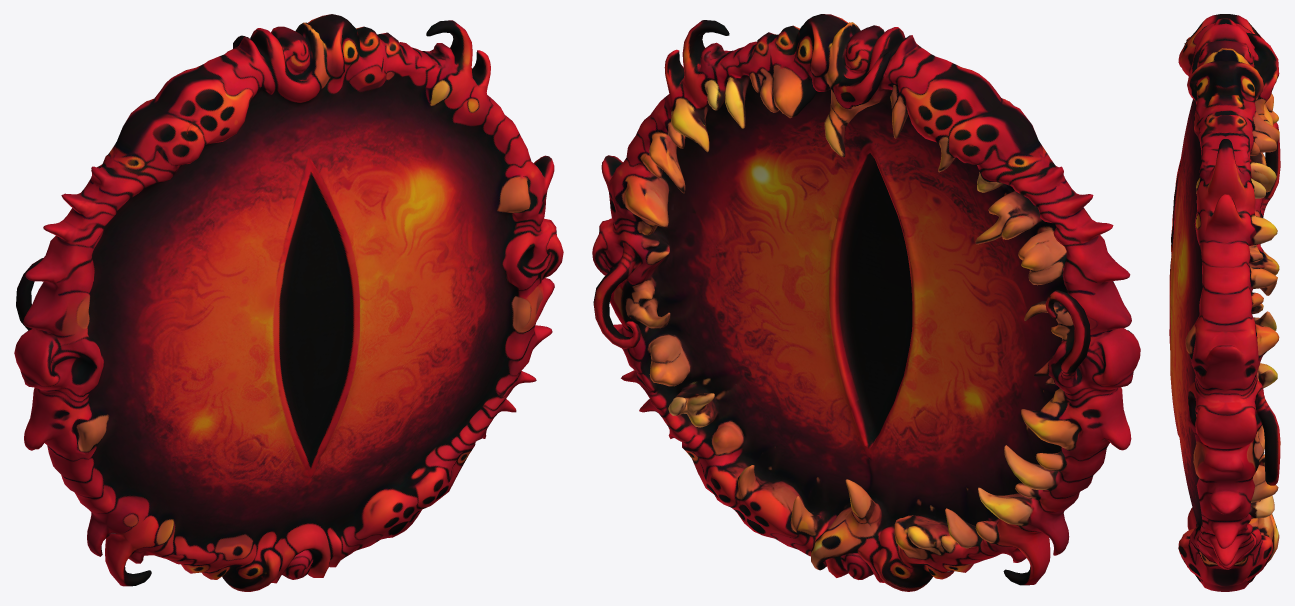
Rendered from olhao.fbx.
3 views of the same model, side by side, from view 1: azimuth 30°, elevation 25°; view 2: azimuth 150°, elevation 25°; view 3: azimuth 270°, elevation 25° (orthographic). The views are drawn at different scales.
Visible parts, largest first — view 1: tripo_node_5ebd79e0; view 2: tripo_node_5ebd79e0; view 3: tripo_node_5ebd79e0.
Part boxes in pixels (x1=…): tripo_node_5ebd79e0: x1=14, y1=14, x2=563, y2=591; tripo_node_5ebd79e0: x1=592, y1=14, x2=1140, y2=591; tripo_node_5ebd79e0: x1=1169, y1=14, x2=1280, y2=591.
Size of the model in its own units: 67.55 by 68.04 by 12.79.
